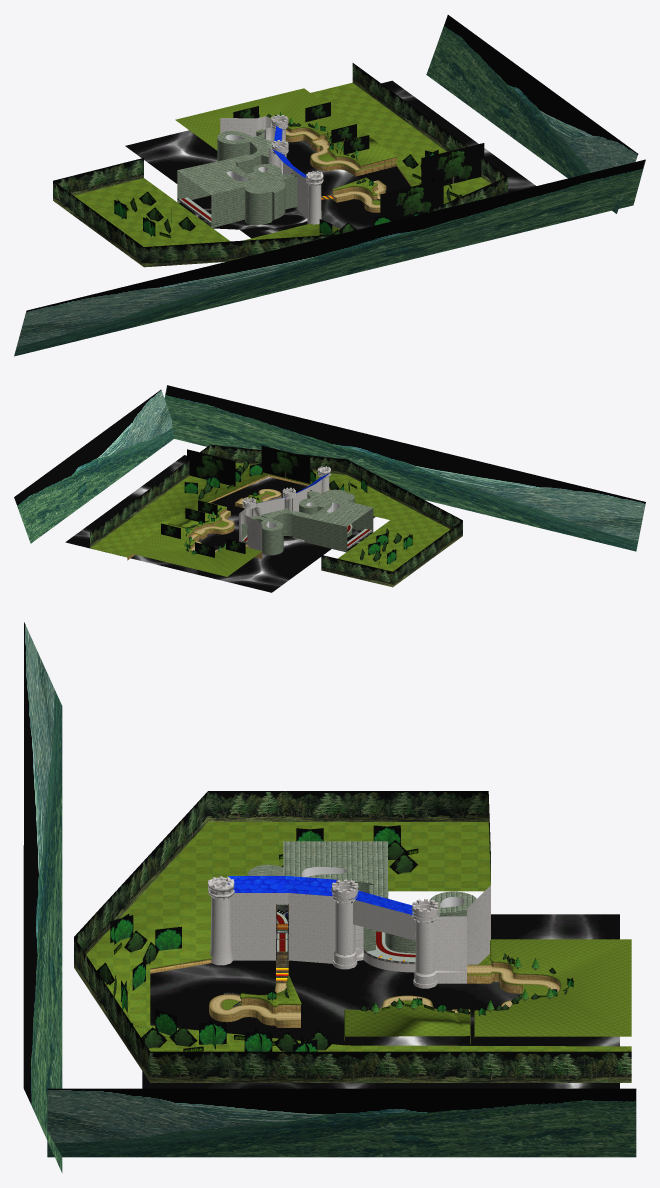
3 views of the same model, one above another, from view 1: azimuth 30°, elevation 25°; view 2: azimuth 150°, elevation 25°; view 3: azimuth 270°, elevation 25° (orthographic). The views are drawn at different scales.
Visible parts, largest first — view 1: mountains, outsideroad, forest, water.001, castleintwall.001, outsideroad.001, castleintwall, billboardtree6, billboardtree7, cliff, bush1, bush2 (+1 smaller); view 2: mountains, outsideroad, forest, water.001, castleintwall.001, outsideroad.001, castleintwall, billboardtree7, bush2, billboardtree6, cliff, bush1 (+1 smaller); view 3: mountains, outsideroad, forest, water.001, castleintwall, outsideroad.001, castleintwall.001, bush2, bush1, castleintwall.005, cliff, outsideroad.002.
Boxes of the visible parts, box(x1,y1,x2,y2) form: mountains: box(14, 15, 645, 356); outsideroad: box(74, 82, 490, 246); forest: box(53, 63, 508, 267); water.001: box(125, 80, 536, 238); castleintwall.001: box(177, 129, 297, 227); outsideroad.001: box(78, 90, 402, 246); castleintwall: box(220, 114, 323, 224); billboardtree6: box(421, 143, 484, 185); billboardtree7: box(380, 179, 443, 221); cliff: box(286, 128, 411, 212); bush1: box(130, 114, 461, 234); bush2: box(114, 114, 443, 236); mountains: box(14, 385, 645, 551); outsideroad: box(91, 463, 450, 576); forest: box(90, 444, 462, 587); water.001: box(65, 455, 375, 592); castleintwall.001: box(241, 489, 373, 555); outsideroad.001: box(90, 478, 274, 576); castleintwall: box(239, 466, 330, 551); billboardtree7: box(261, 445, 310, 483); bush2: box(184, 463, 412, 564); billboardtree6: box(187, 449, 235, 486); cliff: box(127, 474, 309, 560); bush1: box(185, 459, 401, 561); mountains: box(23, 622, 636, 1172); outsideroad: box(86, 822, 631, 1051); forest: box(74, 791, 631, 1082); water.001: box(142, 905, 619, 1088); castleintwall: box(208, 876, 490, 988); outsideroad.001: box(86, 822, 631, 1051); castleintwall.001: box(247, 841, 476, 953); bush2: box(110, 825, 573, 1051); bush1: box(96, 840, 567, 1051); castleintwall.005: box(228, 876, 413, 915); cliff: box(150, 958, 560, 1040); outsideroad.002: box(209, 964, 560, 1020).
Size of the model in its own units: 412508 by 37429 by 228425.
Materials: 30 (30 with a texture image).
